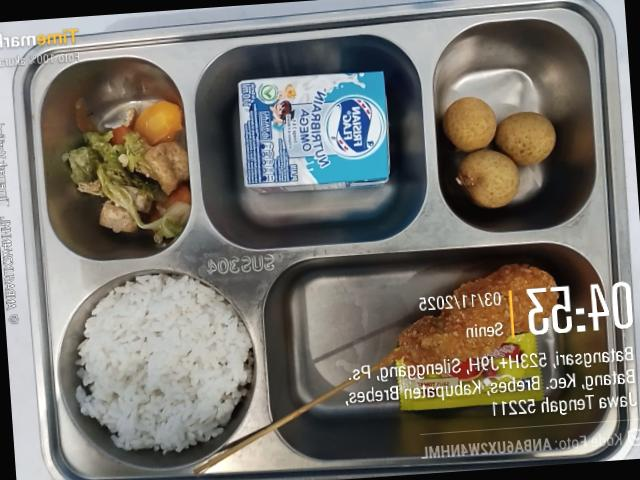ayam: (394, 263, 557, 365)
buah: (442, 96, 555, 207)
nasi: (76, 274, 252, 453)
sayur: (134, 100, 182, 145)
susu: (238, 71, 389, 191)
tahu: (144, 141, 189, 194)
